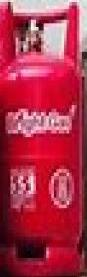cylinder: (1, 1, 87, 277)
